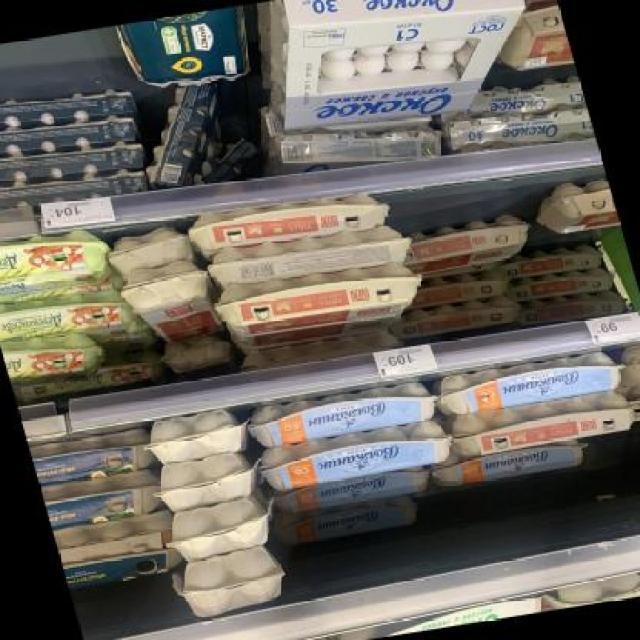egg: (216, 257, 429, 340), (190, 187, 393, 256), (452, 390, 640, 460), (41, 471, 176, 532), (29, 427, 163, 488), (167, 497, 275, 560), (153, 451, 261, 514), (142, 407, 250, 470)
